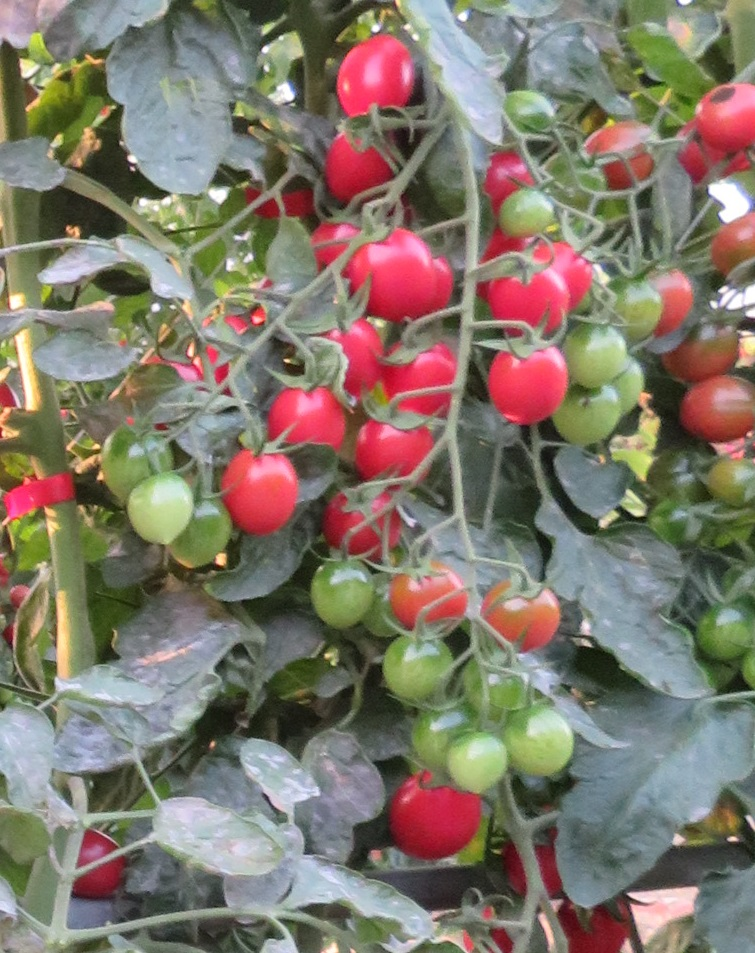green: (124, 471, 199, 551), (306, 555, 383, 632), (103, 425, 177, 501), (500, 717, 581, 782), (377, 634, 453, 700), (444, 724, 502, 798), (560, 327, 631, 387), (554, 391, 621, 451), (188, 498, 237, 579), (692, 600, 753, 661), (411, 710, 473, 769), (602, 280, 665, 338), (507, 89, 571, 142), (493, 189, 559, 236), (702, 454, 755, 501)
orange: (478, 575, 566, 651), (389, 559, 472, 628), (672, 377, 755, 440), (710, 215, 755, 284)
red: (385, 772, 489, 863), (351, 222, 442, 310), (221, 440, 298, 540), (488, 337, 566, 430), (336, 32, 416, 113), (378, 343, 462, 417), (477, 269, 574, 333), (353, 412, 444, 478), (325, 486, 401, 554), (587, 121, 660, 183), (269, 378, 343, 437), (691, 76, 755, 144), (71, 825, 127, 894), (340, 315, 386, 397), (323, 130, 388, 188)
